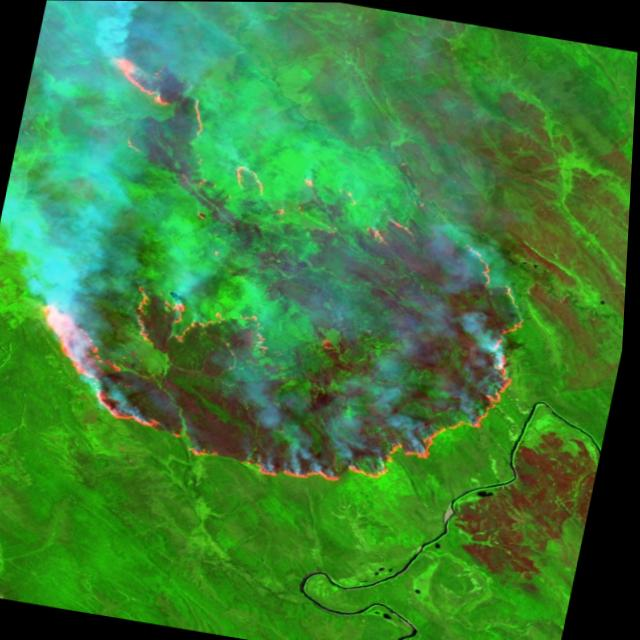fire: (4, 38, 579, 518)
